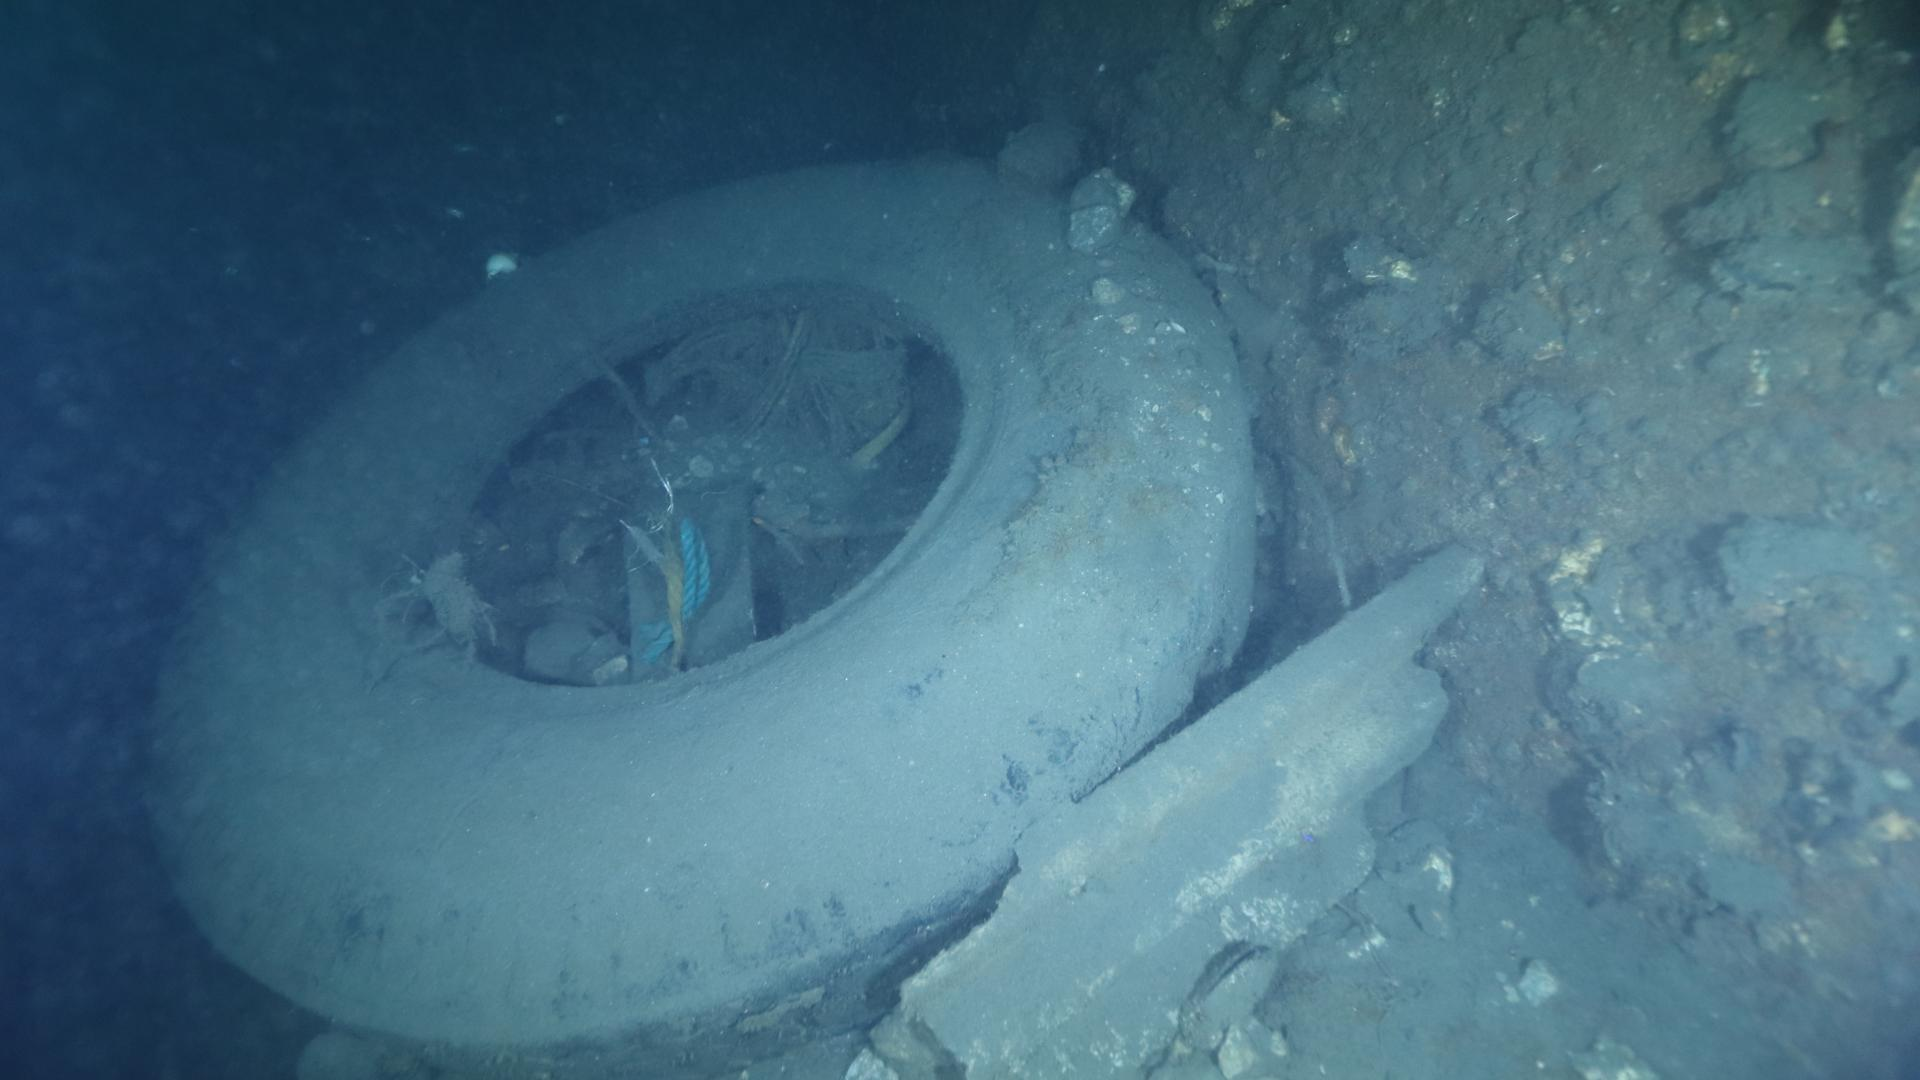tire: (142, 156, 1265, 1080)
